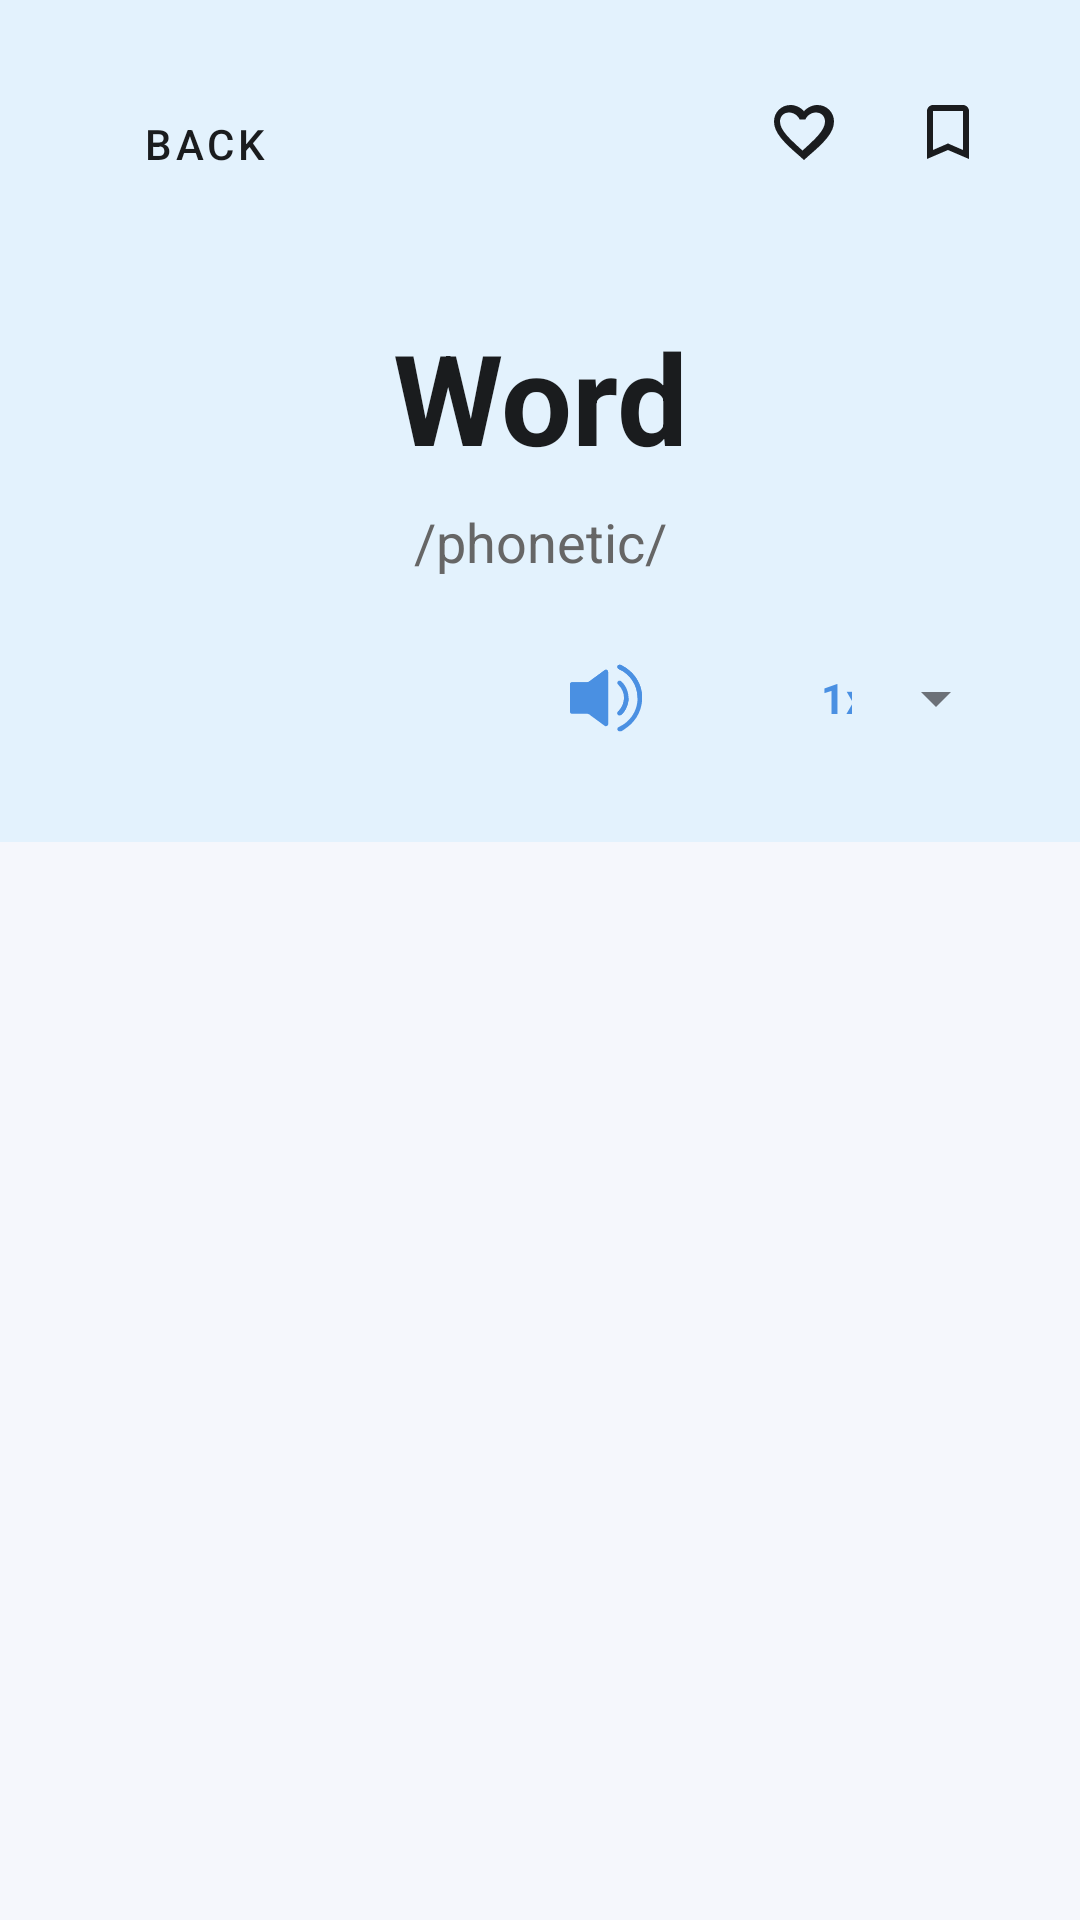

Locate icon controls on the screen. Image size 1080*1920, boxes as (x1, y1, x2, y2).
Add to favorites: (774, 105, 834, 160)
Play audio: (570, 664, 642, 732)
